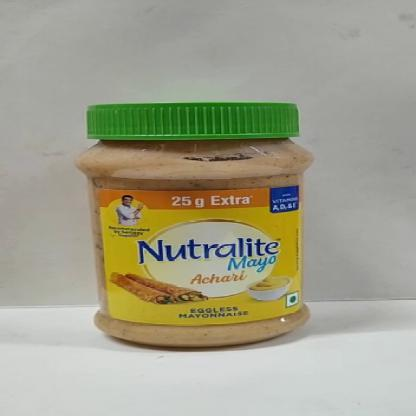Nutralite ACHARI MAYO 300g-275g-25g-: (76, 102, 315, 350)
